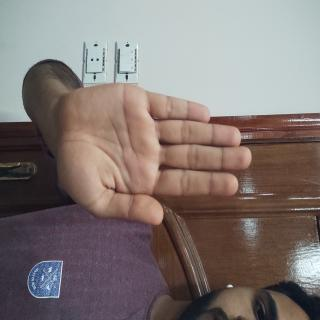SEEN: (56, 82, 174, 320)
